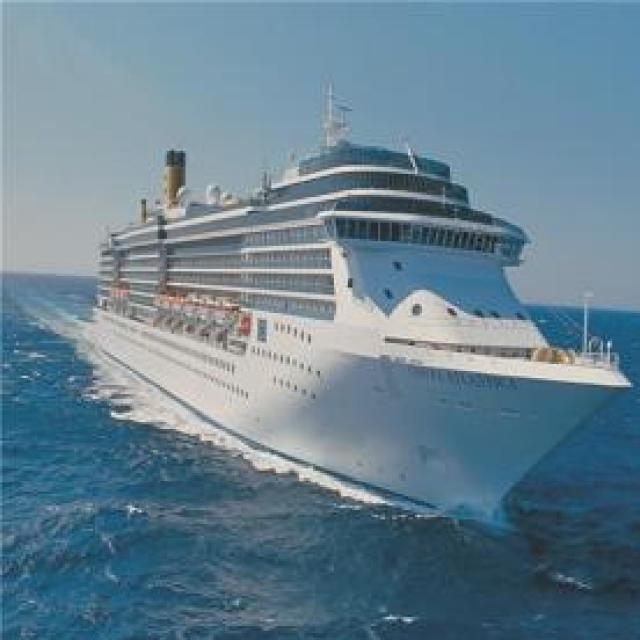passenger ship: (75, 105, 630, 524)
